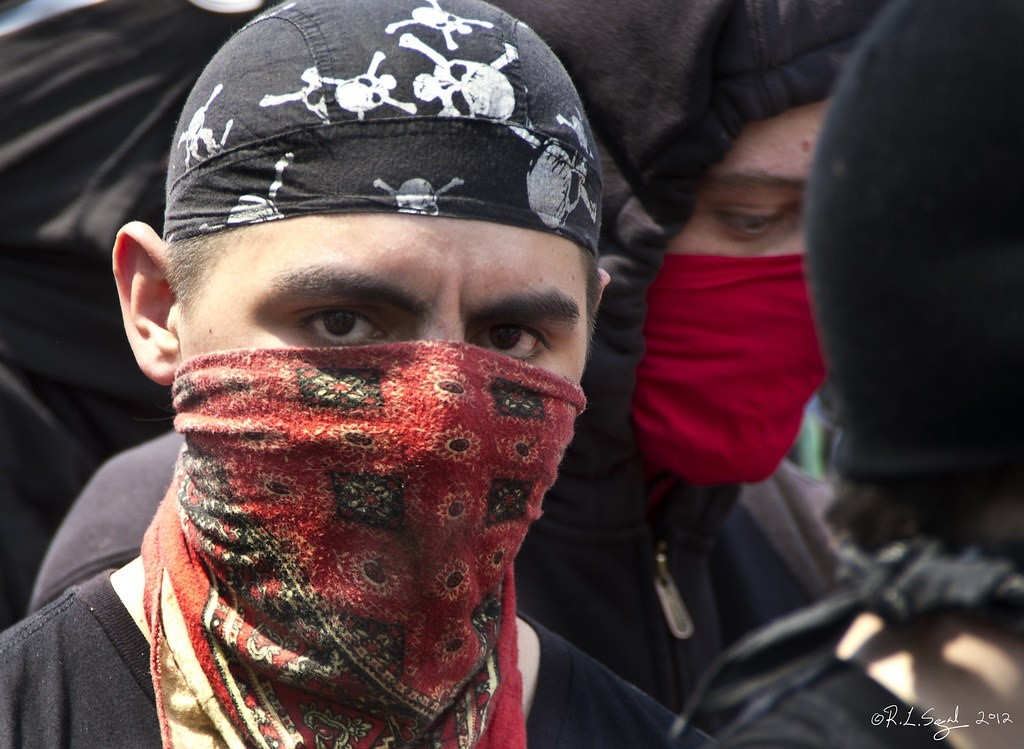face_with_mask: (131, 20, 592, 632), (572, 6, 831, 504)
